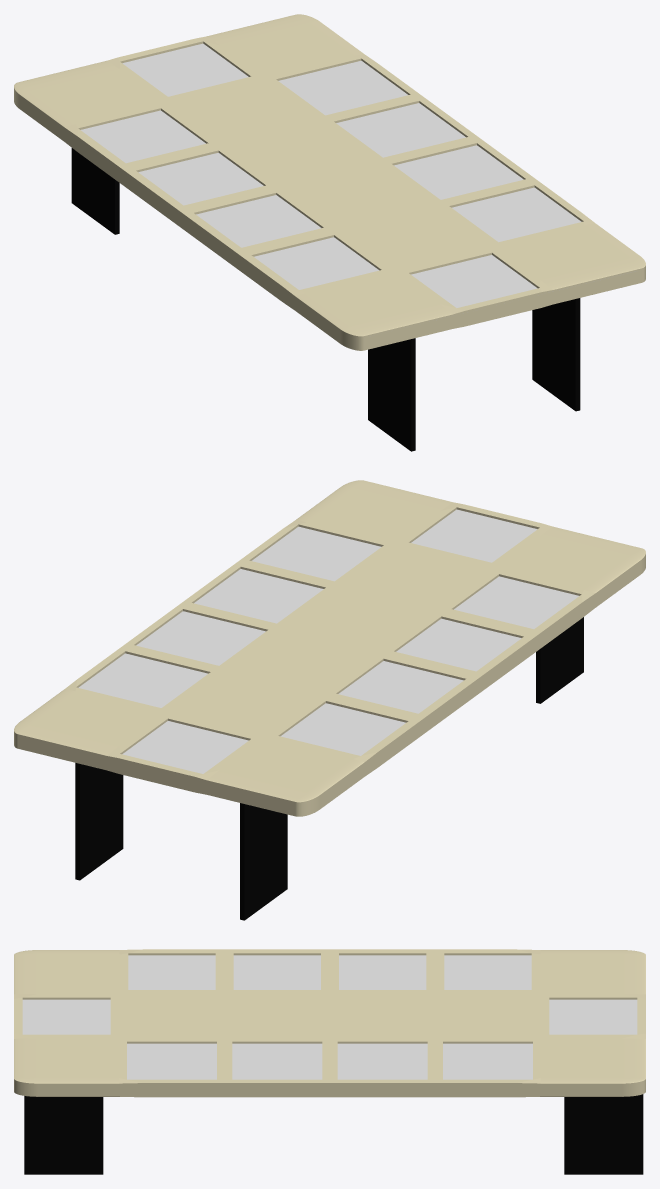
The model's file is converance table.fbx.
The picture shows the model from 3 angles, top to bottom: view 1: azimuth 30°, elevation 25°; view 2: azimuth 150°, elevation 25°; view 3: azimuth 270°, elevation 25°; orthographic projection. The views are drawn at different scales.
Parts seen in each view (by area): view 1: Cube, Cube.002, Leg.002, Leg, Leg.003; view 2: Cube, Cube.002, Leg.001, Leg.003, Leg; view 3: Cube, Cube.002, Leg.001, Leg.002.
Part boxes in pixels (x1,y1,x2,y2): Cube: (14,14,645,350); Cube.002: (54,43,635,336); Leg.002: (532,298,580,411); Leg: (368,338,415,451); Leg.003: (71,148,119,234); Cube: (14,480,645,816); Cube.002: (78,509,578,773); Leg.001: (75,763,123,880); Leg.003: (240,803,287,920); Leg: (536,617,583,703); Cube: (14,949,645,1097); Cube.002: (22,955,637,1079); Leg.001: (564,1094,643,1174); Leg.002: (24,1096,103,1174).
Bounding box in the file's own units: 200 × 84.8 × 400.
